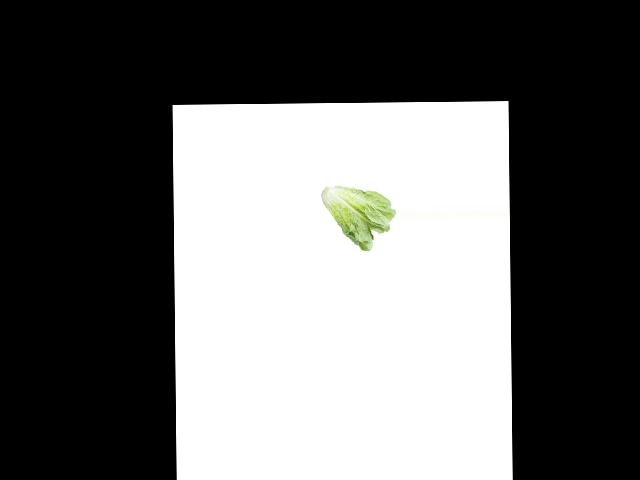lettuce: (321, 182, 397, 254)
